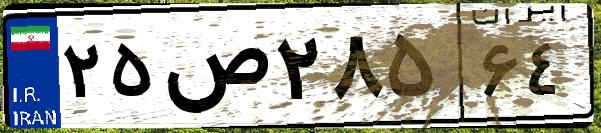2: (270, 28, 330, 110), (57, 26, 110, 100)
4: (525, 38, 570, 115)
5: (385, 28, 445, 110), (110, 28, 158, 98)
6: (475, 38, 525, 113)
8: (330, 28, 385, 110)
ص: (158, 20, 270, 120)
